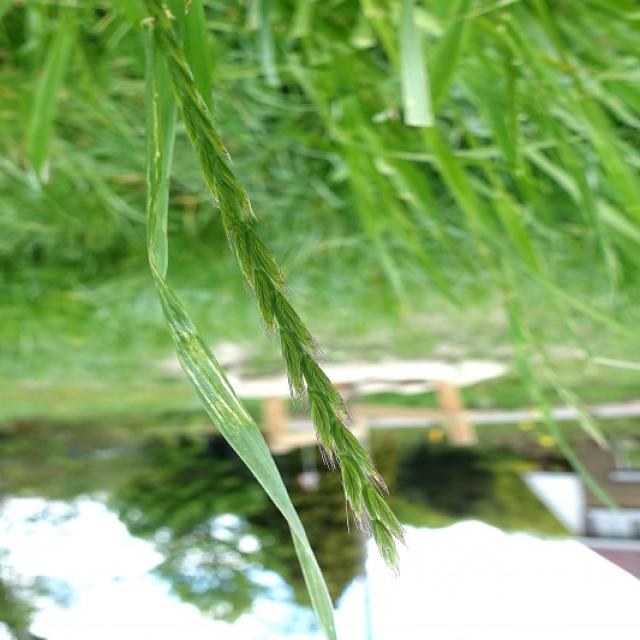Lolium: (138, 5, 412, 637)
